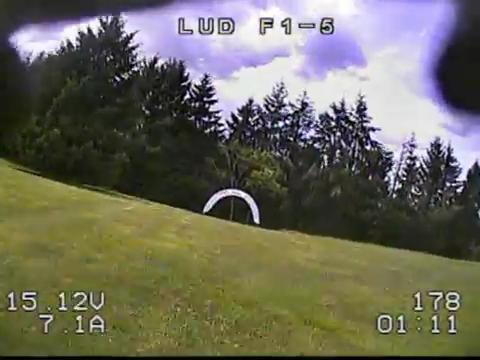gate: (203, 187, 261, 226)
